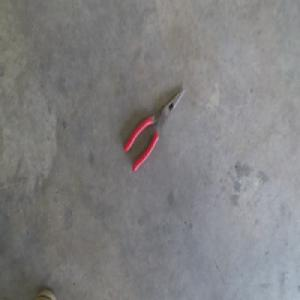Pliers: (122, 88, 184, 175)
